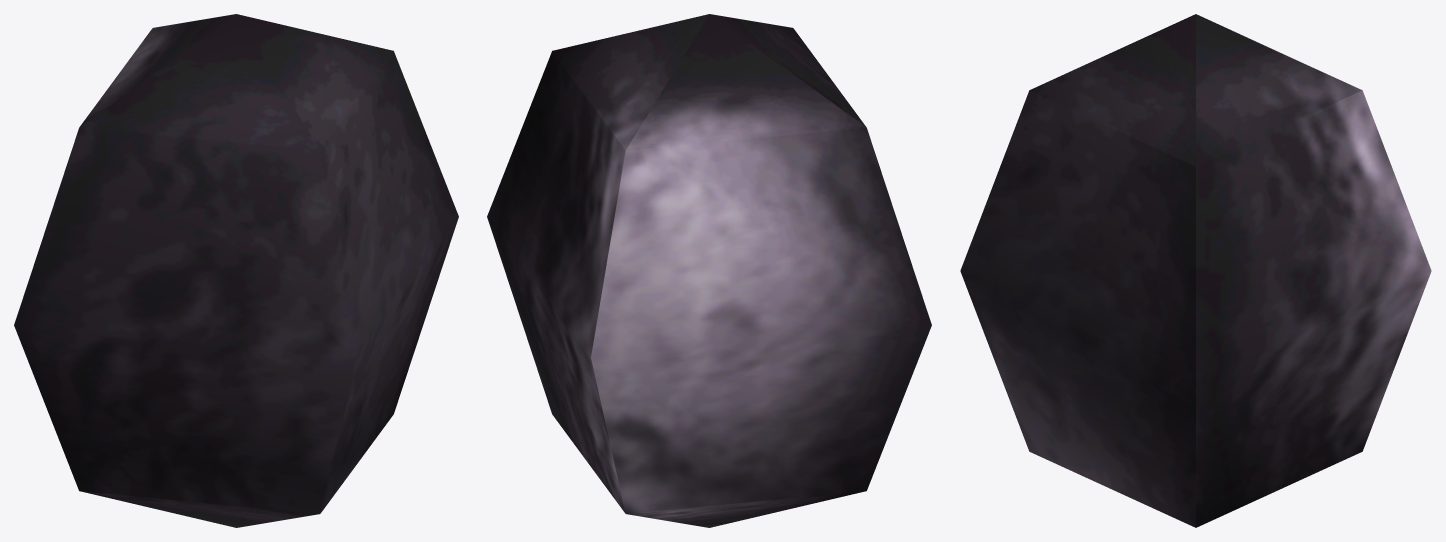
File: bgrnd53-low.obj
The picture shows the model from 3 angles, left to right: view 1: azimuth 30°, elevation 25°; view 2: azimuth 150°, elevation 25°; view 3: azimuth 270°, elevation 25°; orthographic projection.
Visible parts, largest first — view 1: frm-sphere7; view 2: frm-sphere7; view 3: frm-sphere7.
Part boxes in pixels (x1,y1,x2,y2): frm-sphere7: (14,14,458,527); frm-sphere7: (487,14,931,527); frm-sphere7: (960,14,1431,527).
Bounding box in the file's own units: 9.67 × 10.67 × 8.92.
